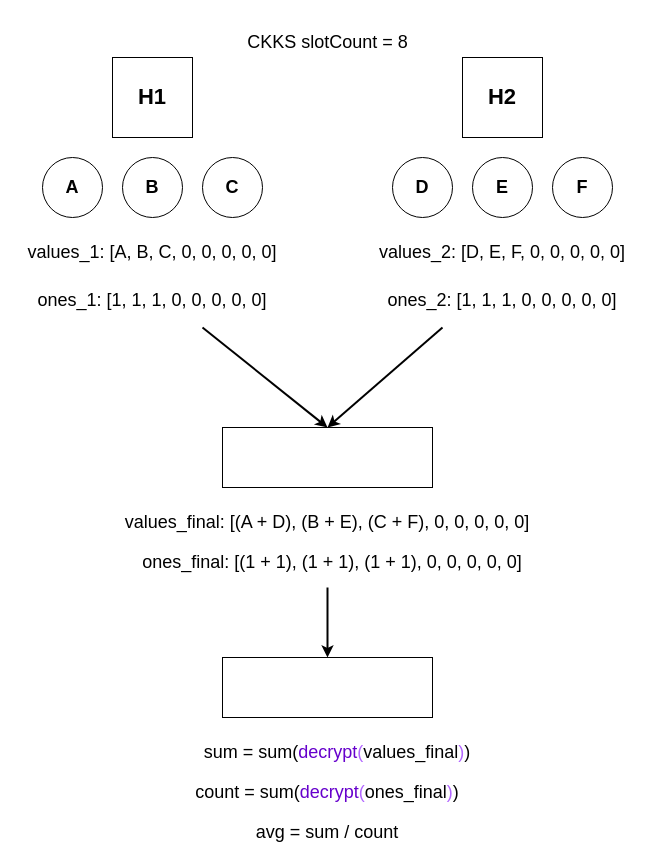
The diagram is 654 pixels wide and 864 high, and some of its shapes have lost their labels. The box of each missing label's shape, as (x1, y1, x2, y2) in pixels:
Client/AuthParty: (222, 656, 432, 718)
HEServer: (222, 426, 432, 488)
